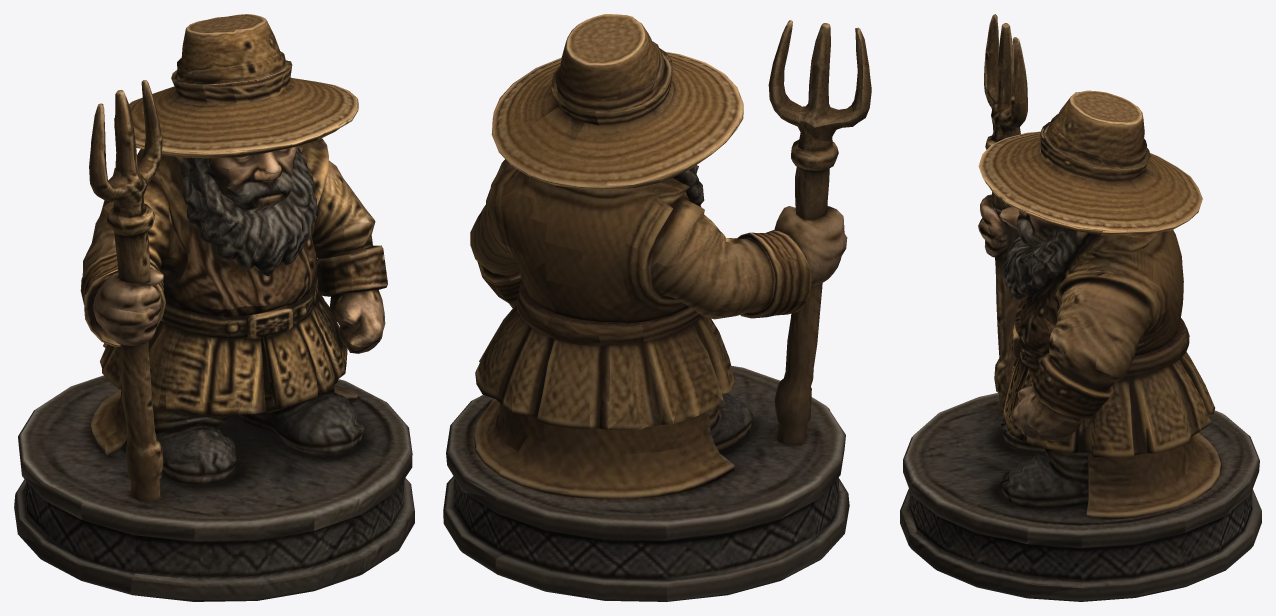
File: farmer.glb
3 views of the same model, side by side, from view 1: azimuth 30°, elevation 25°; view 2: azimuth 150°, elevation 25°; view 3: azimuth 270°, elevation 25° (orthographic). The views are drawn at different scales.
Parts seen in each view (by area): view 1: mesh_node; view 2: mesh_node; view 3: mesh_node.
Part boxes in pixels (<box>): mesh_node: <box>14,14,414,601</box>; mesh_node: <box>443,14,871,601</box>; mesh_node: <box>900,14,1261,601</box>.
Bounding box in the file's own units: 0.7441 × 1 × 0.7422.
1 material, 1 textured.
